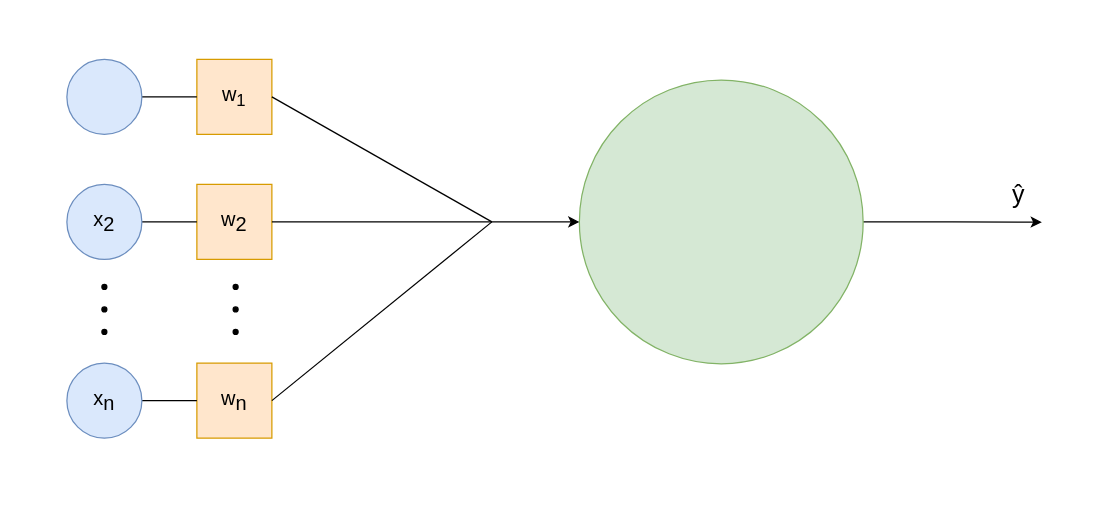
Some shapes in this 1093 by 505 pixel diagram are drawn without their labels. Each missing label, with the centre of its shape:
f( x 1 * w 1 + ... + x n * w n ): point 720,221
x 1: point 104,96
